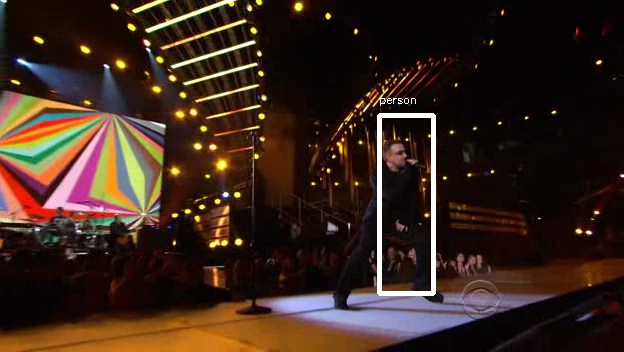person: (361, 140, 432, 265), (358, 140, 429, 265), (364, 140, 435, 265), (361, 137, 432, 262), (361, 143, 432, 268)
target_negative: (546, 17, 610, 306), (269, 188, 508, 238), (480, 198, 618, 255), (578, 28, 602, 234), (616, 306, 620, 320), (523, 30, 524, 76)
